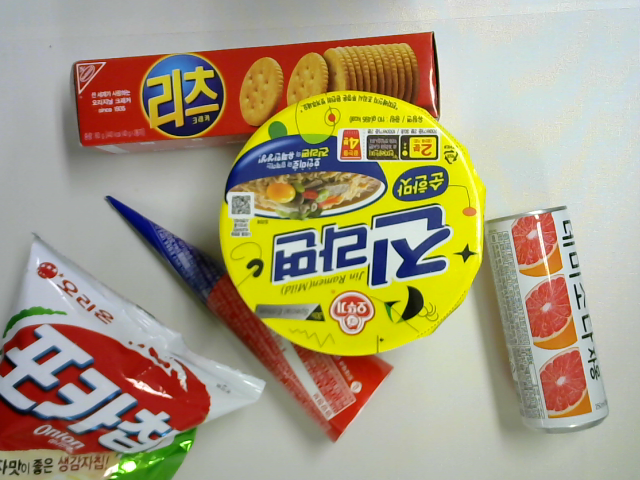Demisoda_Grapefruit_Can_250ml: (482, 198, 618, 441)
Jinlamyeon_Mild_Taste_Large_Cup: (214, 89, 492, 367)
Pocachip_Onion: (2, 230, 274, 480)
Ritz_Cracker: (69, 26, 456, 162)
World_Cone_Banila: (96, 189, 396, 442)
